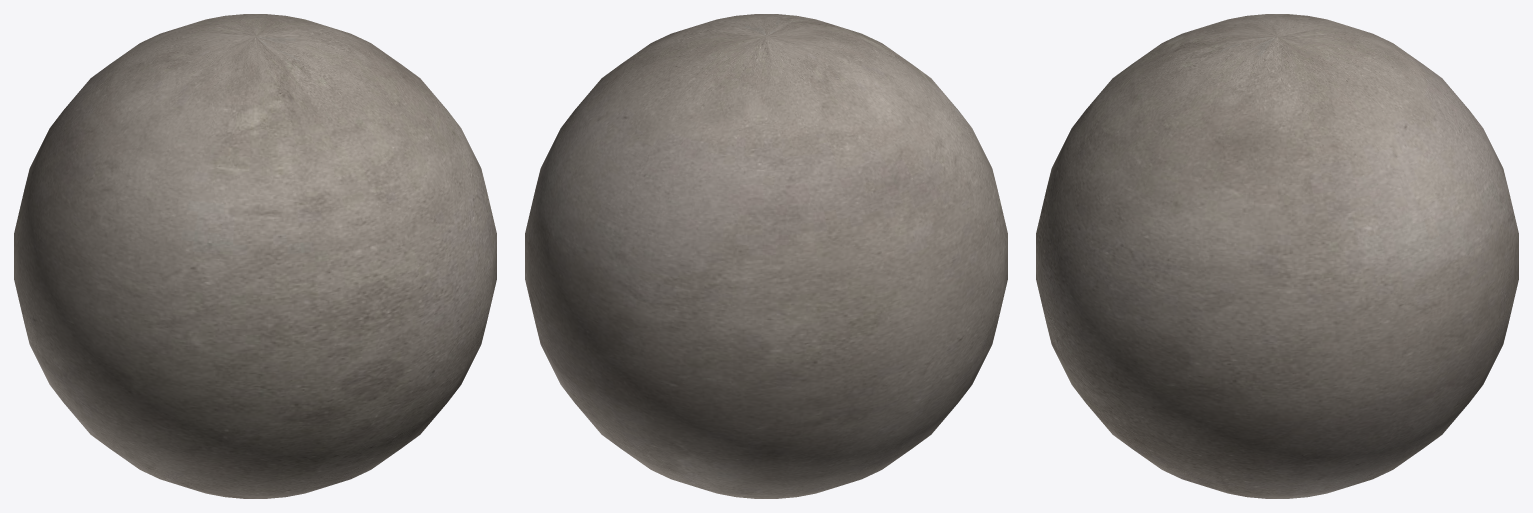
The picture shows the model from 3 angles, left to right: view 1: azimuth 30°, elevation 25°; view 2: azimuth 150°, elevation 25°; view 3: azimuth 270°, elevation 25°; orthographic projection.
Parts seen in each view (by area): view 1: Ball; view 2: Ball; view 3: Ball.
Boxes of the visible parts, x1,y1,x2,y2 form: Ball: [14, 14, 496, 498]; Ball: [525, 14, 1007, 498]; Ball: [1036, 14, 1518, 498].
Size of the model in its own units: 0.9891 by 1 by 0.9945.
Materials: 1 (1 with a texture image).
